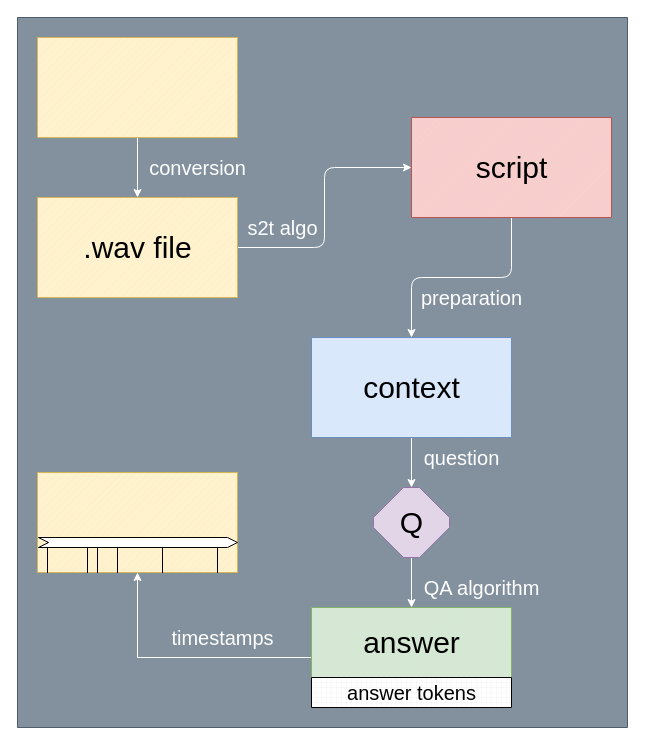
Image size: 645x745. Some labels were removed from this diagram. Each missing label, with the centre of its shape:
.mp4 file: [137,87]
video: [137,522]
